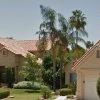Palm tree: (35, 3, 84, 78)
